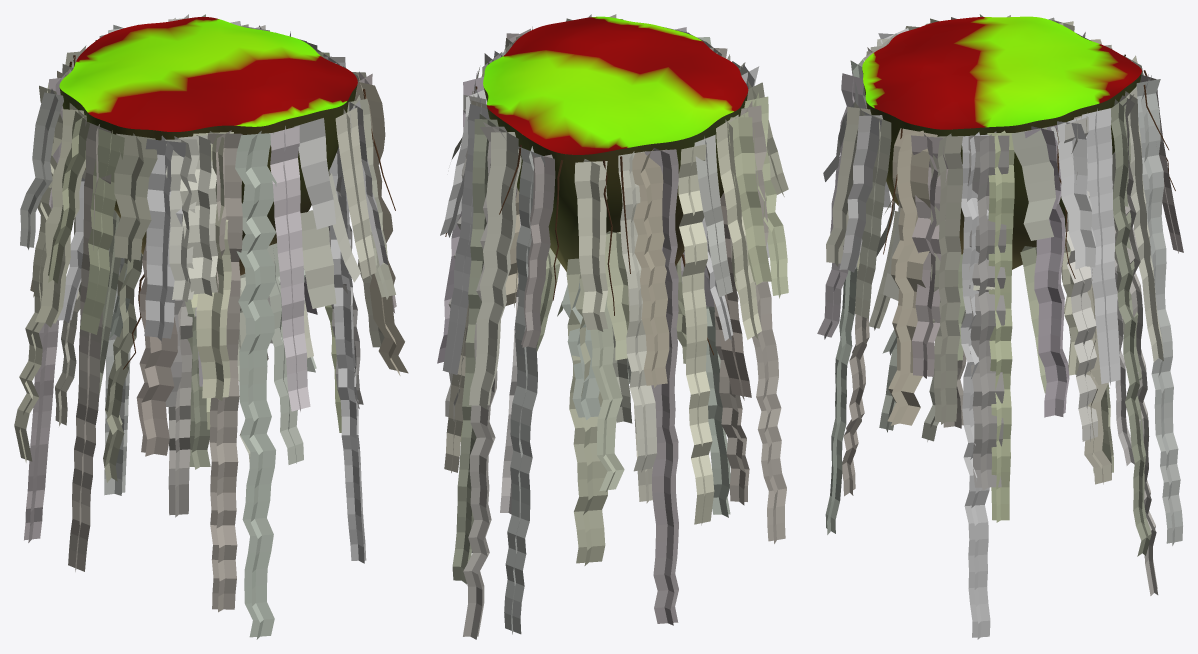
File: SM_H02_Floater01.fbx
The picture shows the model from 3 angles, left to right: view 1: azimuth 30°, elevation 25°; view 2: azimuth 150°, elevation 25°; view 3: azimuth 270°, elevation 25°; orthographic projection. The views are drawn at different scales.
Parts seen in each view (by area): view 1: SM_H02_Floater01_Ivy, SM_H02_Floater01; view 2: SM_H02_Floater01_Ivy, SM_H02_Floater01; view 3: SM_H02_Floater01_Ivy, SM_H02_Floater01.
Boxes of the visible parts, <box> form: SM_H02_Floater01_Ivy: <box>14,14,408,639</box>; SM_H02_Floater01: <box>59,17,357,275</box>; SM_H02_Floater01_Ivy: <box>437,14,788,639</box>; SM_H02_Floater01: <box>483,16,748,271</box>; SM_H02_Floater01_Ivy: <box>817,14,1183,639</box>; SM_H02_Floater01: <box>862,16,1141,269</box>.
Bounding box in the file's own units: 18.91 × 29.93 × 19.55.
